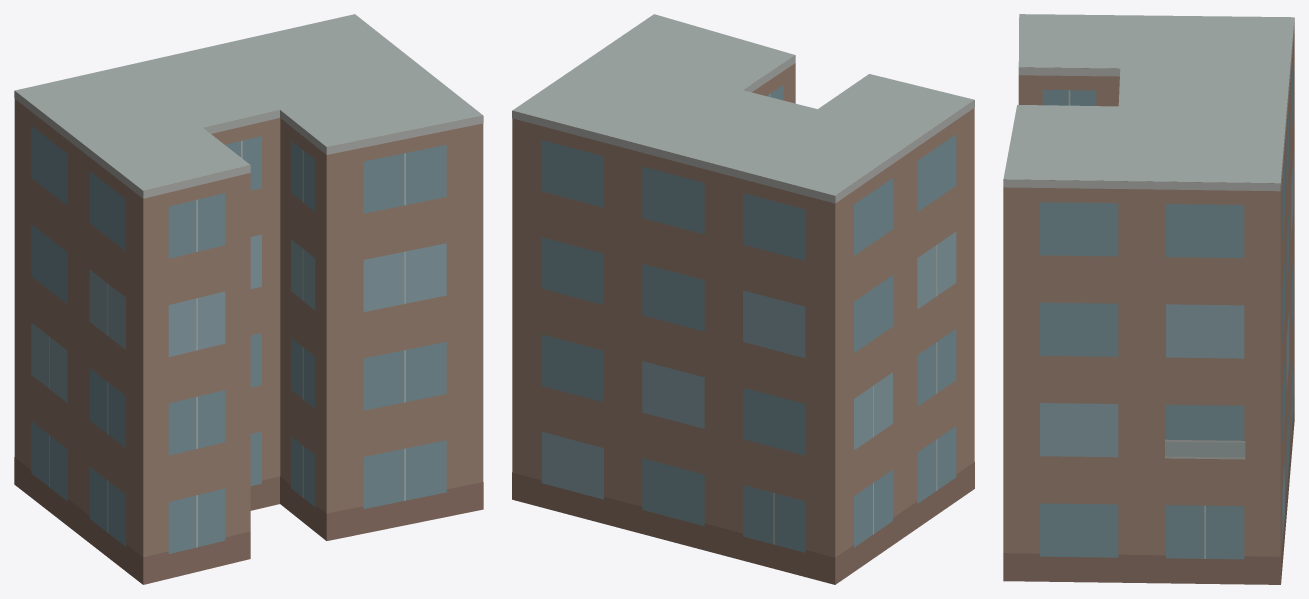
The model's file is residential-65a6426f-d13e-48cc-8a63-e05db2d26917.glb.
3 renders of one model, left to right at view 1: azimuth 30°, elevation 25°; view 2: azimuth 150°, elevation 25°; view 3: azimuth 270°, elevation 25°, orthographic. The views are drawn at different scales.
Visible parts, largest first — view 1: residential-65a6426f-d13e-48cc-8a63-e05db2d26917.tmp; view 2: residential-65a6426f-d13e-48cc-8a63-e05db2d26917.tmp; view 3: residential-65a6426f-d13e-48cc-8a63-e05db2d26917.tmp.
Boxes of the visible parts, x1,y1,x2,y2 form: residential-65a6426f-d13e-48cc-8a63-e05db2d26917.tmp: (14, 14, 483, 584); residential-65a6426f-d13e-48cc-8a63-e05db2d26917.tmp: (512, 14, 974, 584); residential-65a6426f-d13e-48cc-8a63-e05db2d26917.tmp: (1003, 14, 1294, 584).
Bounding box in the file's own units: 11.03 × 12.2 × 8.03.
